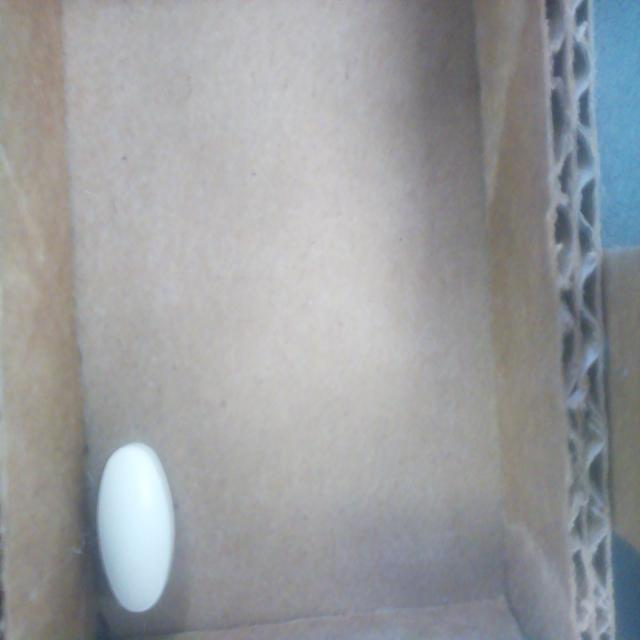pill: (96, 442, 174, 614)
